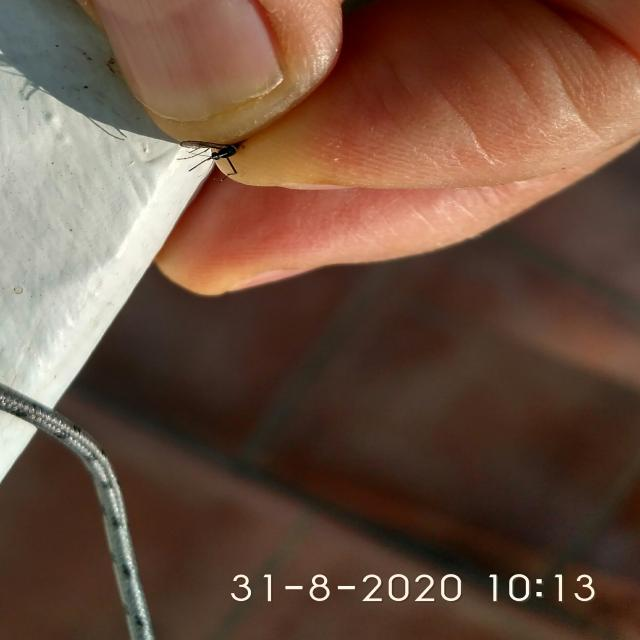albopictus: (173, 128, 248, 187)
